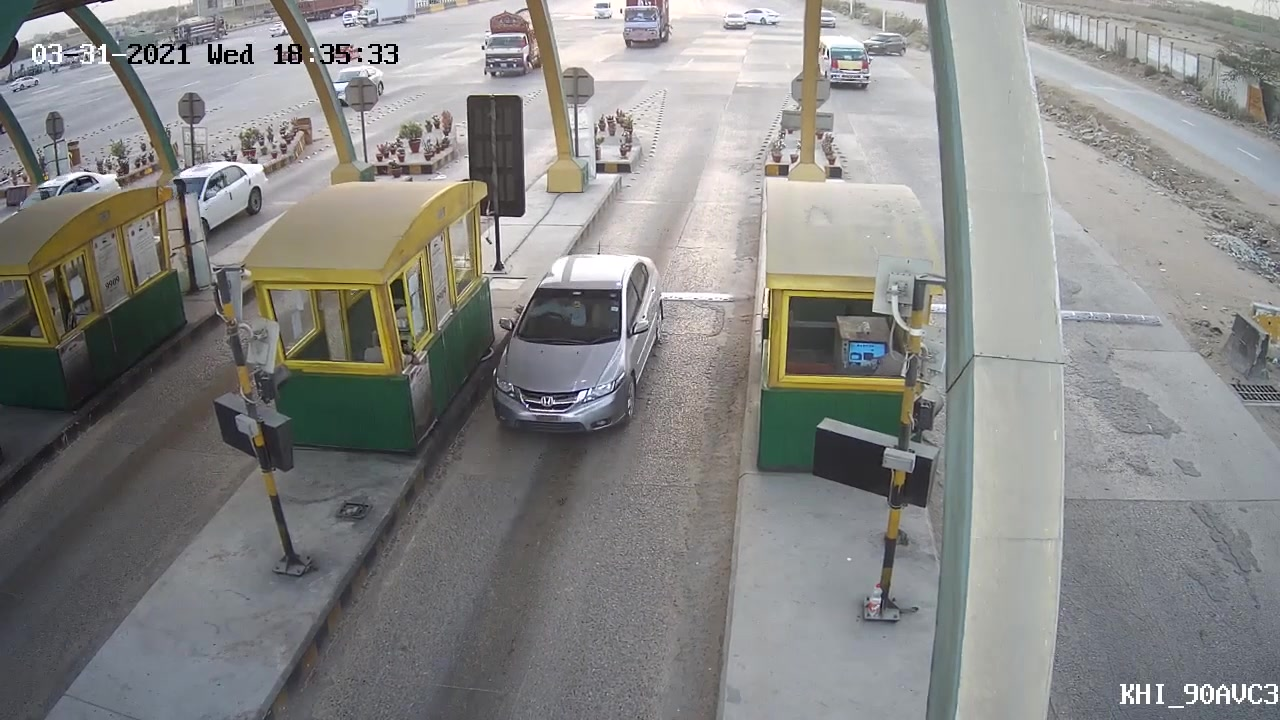F1: (483, 246, 671, 438)
